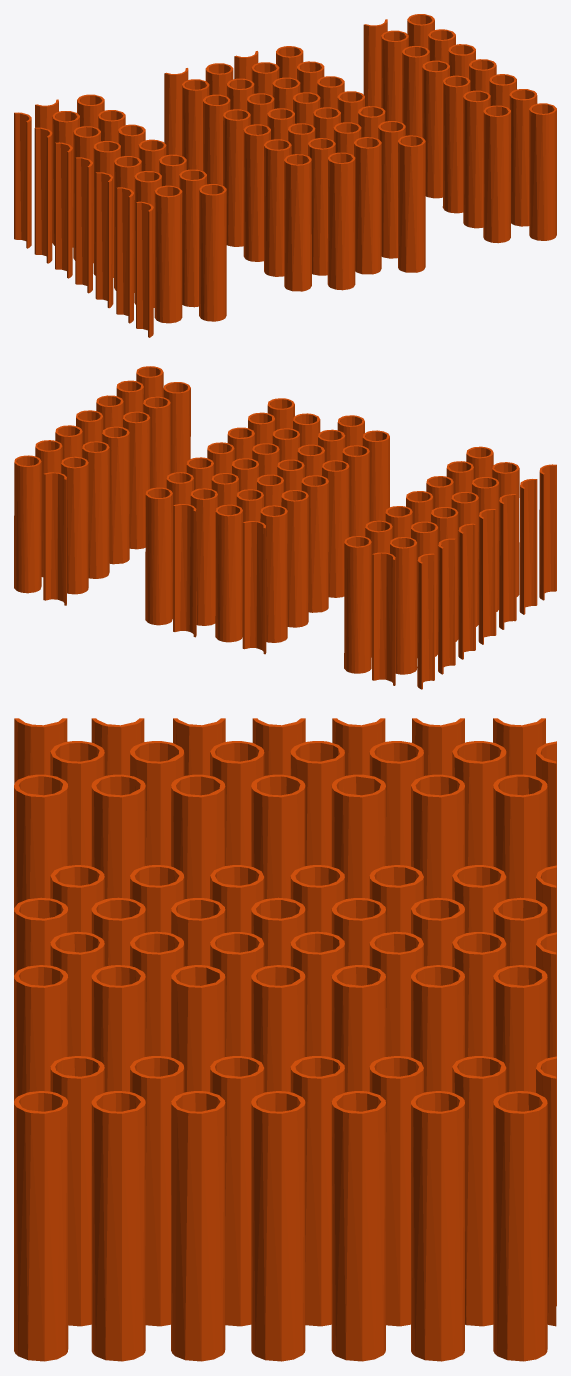
The model's file is NitrideHoles.fbx.
3 views of the same model, one above another, from view 1: azimuth 30°, elevation 25°; view 2: azimuth 150°, elevation 25°; view 3: azimuth 270°, elevation 25° (orthographic). The views are drawn at different scales.
Parts seen in each view (by area): view 1: NitrideHoles; view 2: NitrideHoles; view 3: NitrideHoles.
Boxes of the visible parts, bbox=[...] form: NitrideHoles: bbox=[14, 14, 556, 337]; NitrideHoles: bbox=[14, 366, 556, 689]; NitrideHoles: bbox=[14, 718, 556, 1361].
Bounding box in the file's own units: 2238 × 654 × 1299.
